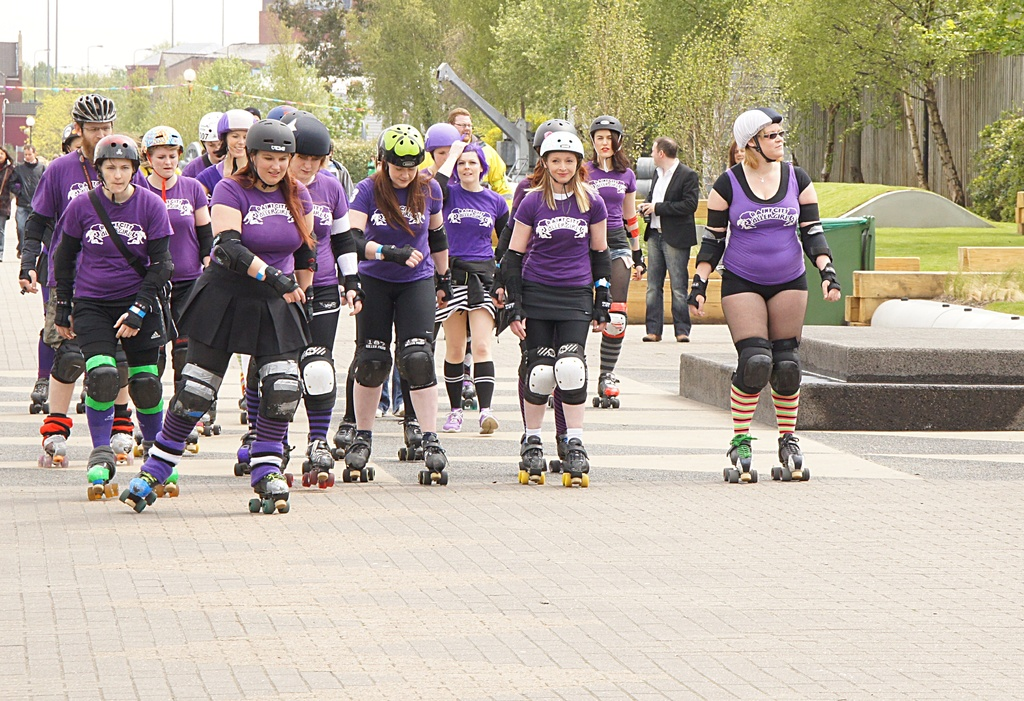Person: (0, 94, 841, 514)
